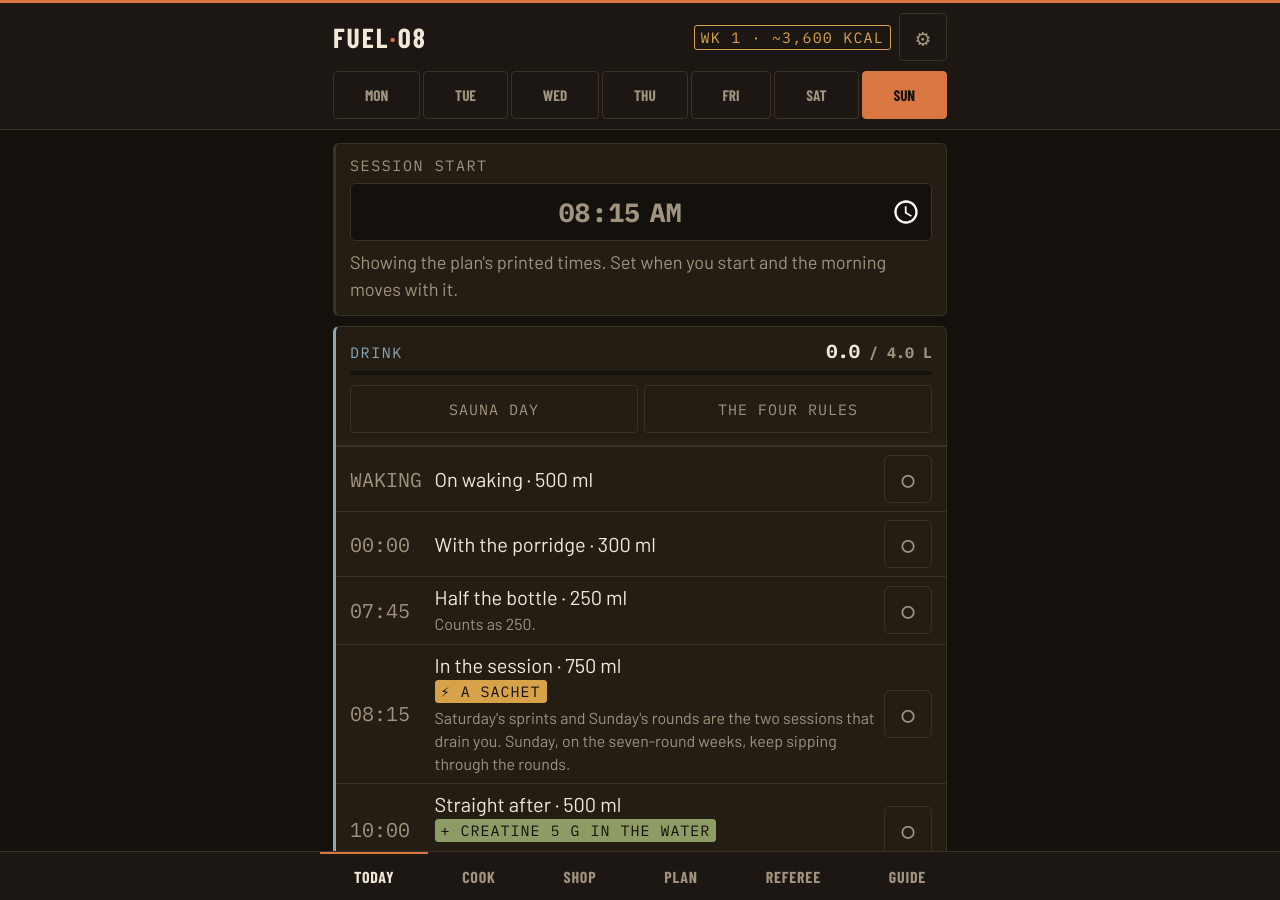
Test: Fuel · Optimal 8 Fighter › runs the drink schedule against the day's target
Click the button "MON" at {"x": 377, "y": 95}, box [333,71,420,119]
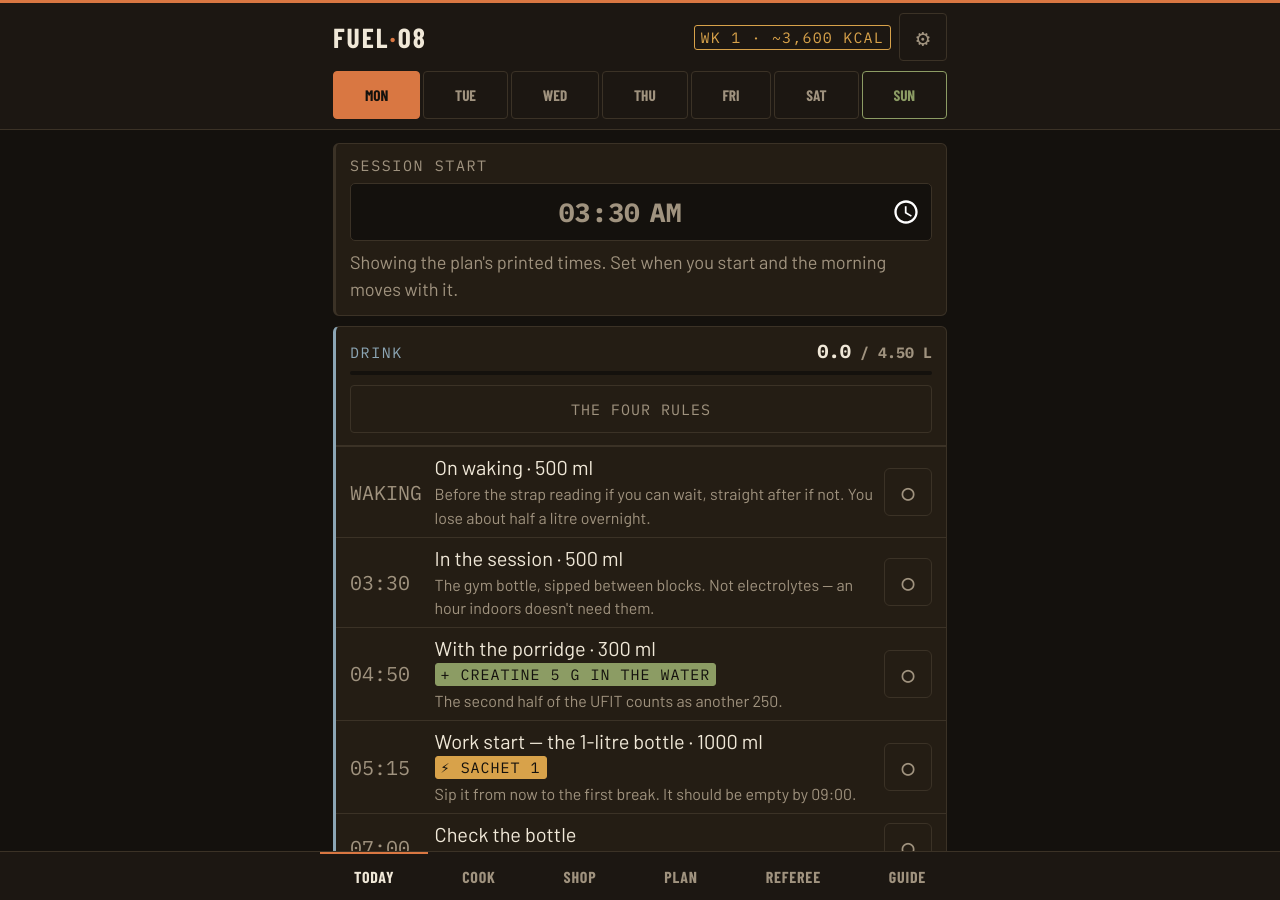
Check: the text "/ 4.50 L" is shown, box [851,343,932,362]
Click the button named "Mark On waking" at {"x": 908, "y": 492}, box [884,468,932,516]
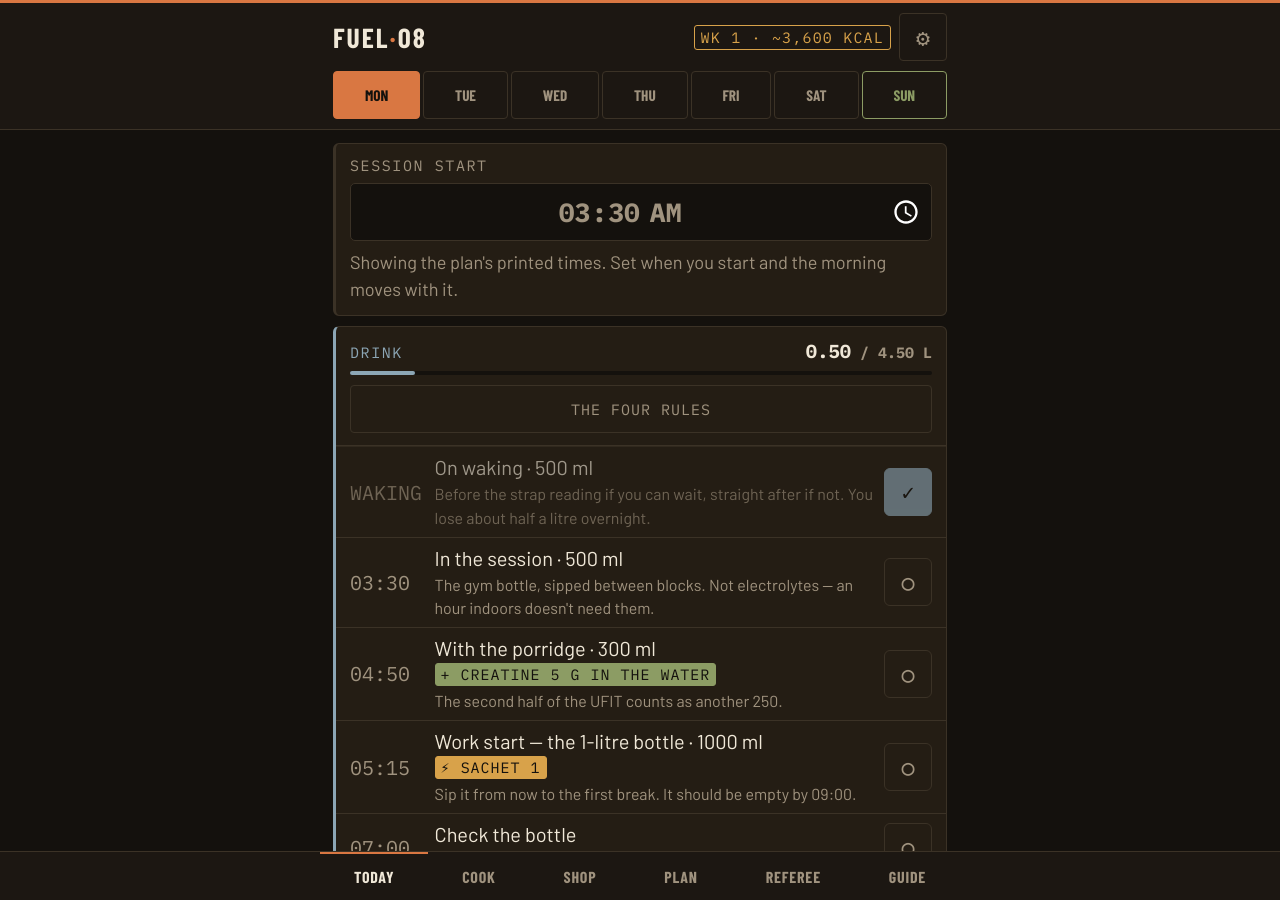
Click the button named "Mark Work start" at {"x": 908, "y": 767}, box [884,743,932,791]
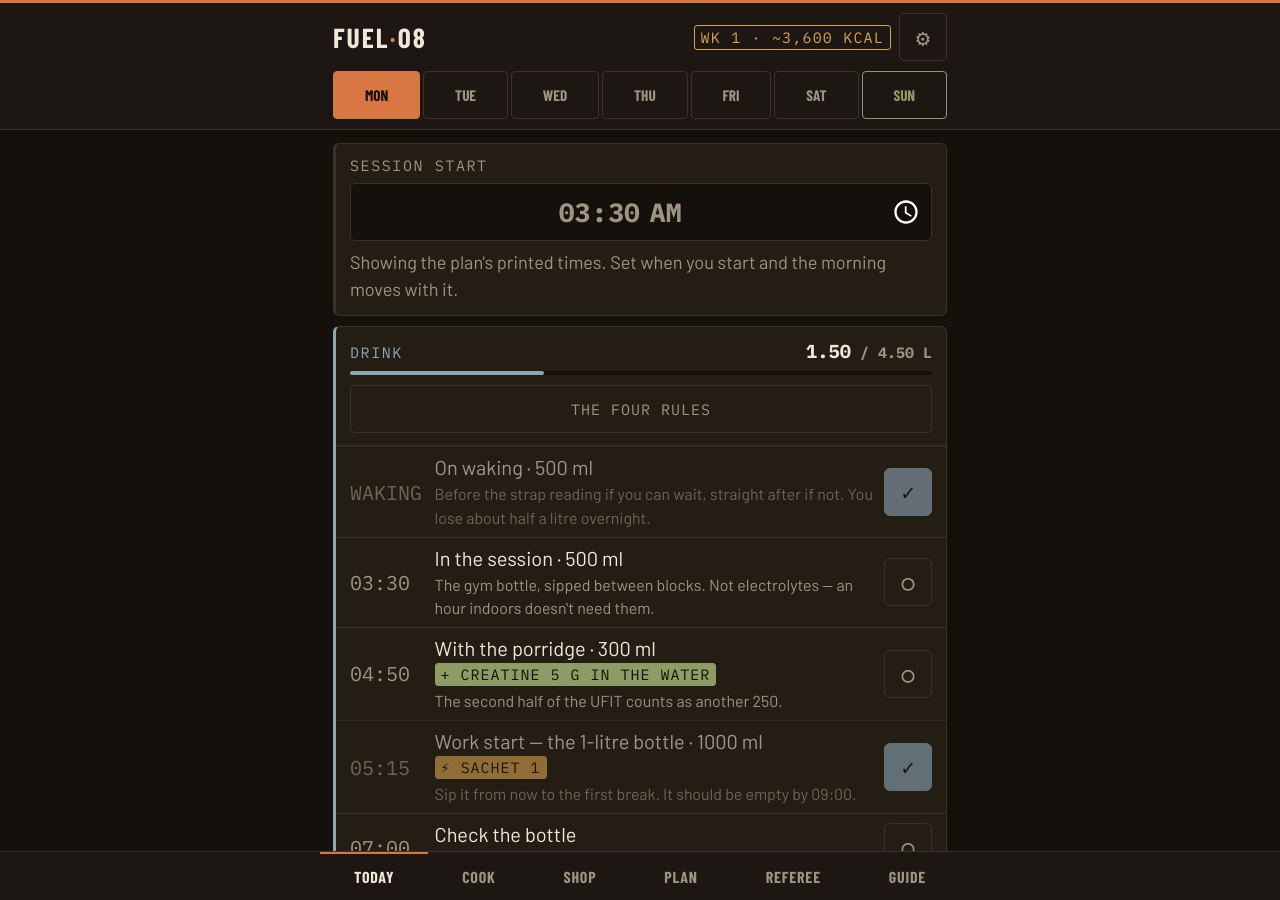
Check: the text "⚡ SACHET 1" is shown, box [435,756,547,779]
Check: the text "1.50" is shown, box [806,339,851,363]
